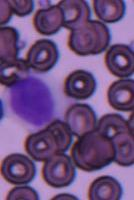L: (5, 72, 59, 133)
